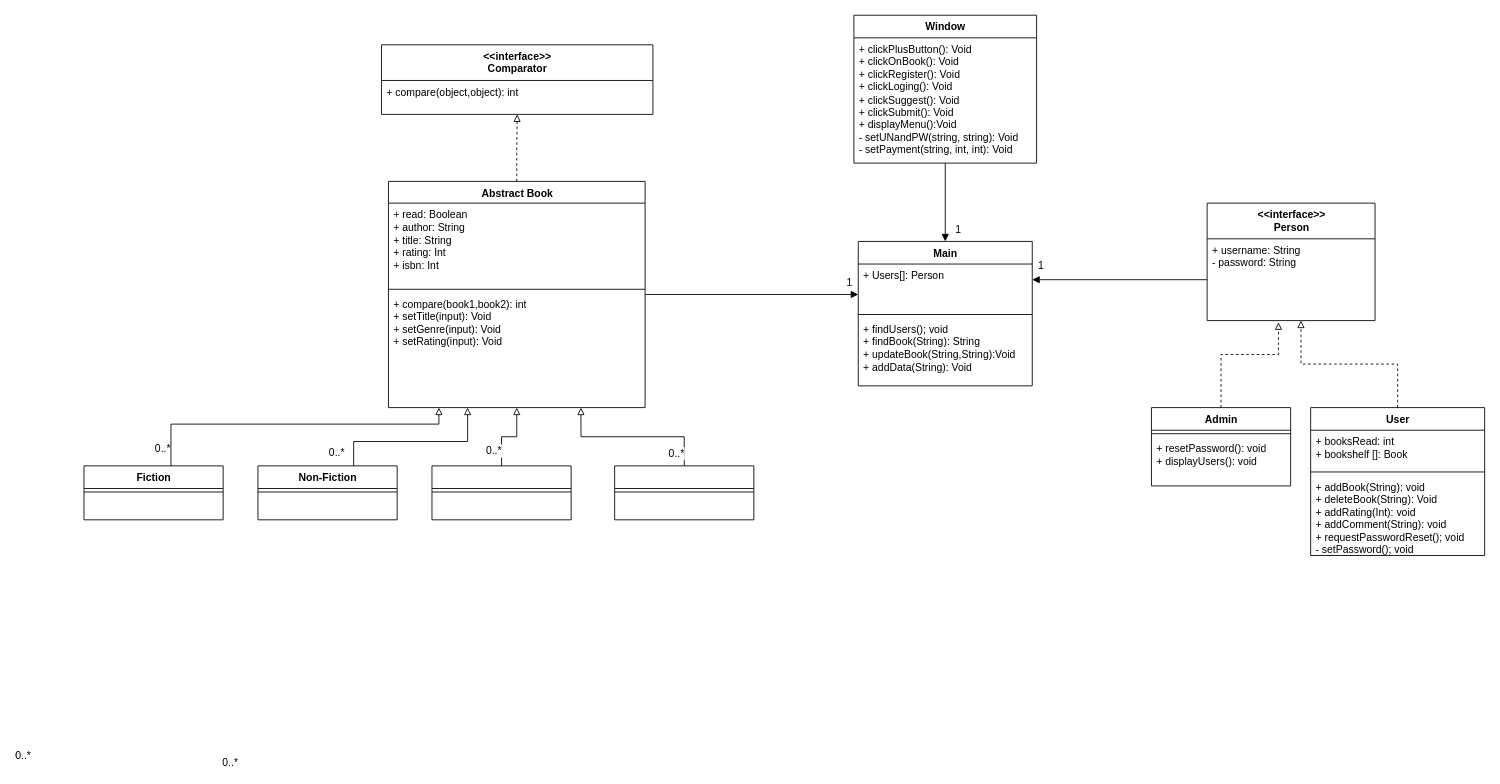
Some shapes in this 1500 by 784 pixel diagram are drawn without their labels. The shapes that lost their labels are listed below. From the top down, each one's centre as x and y in pixels, then its label:
At (501,492): "Magazine".
At (684,492): "Comic Book".
